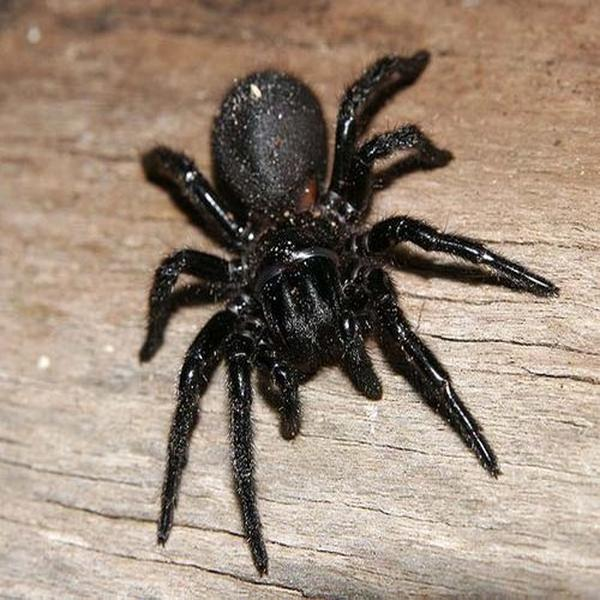Funnel Web Spider: (141, 53, 542, 549)
